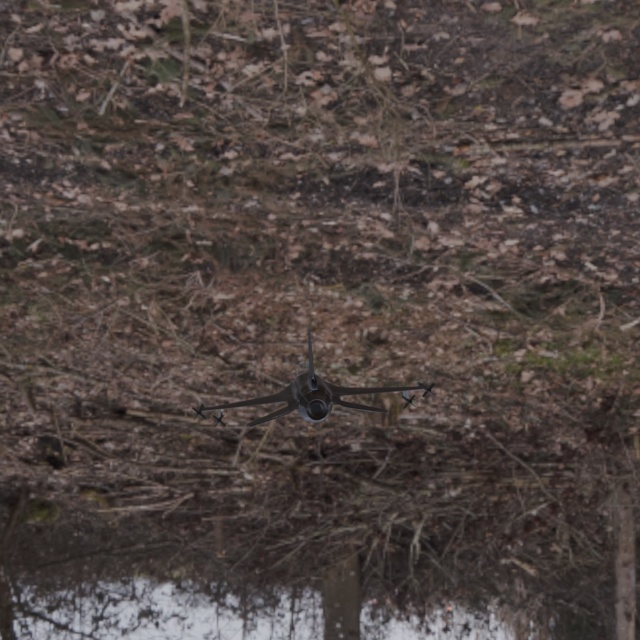model: (188, 305, 440, 447)
